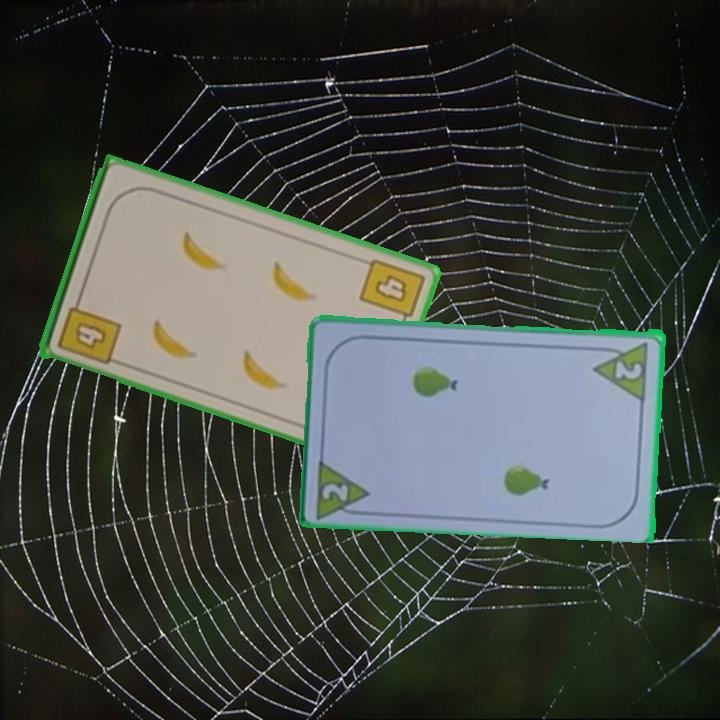2p: (312, 454, 374, 519), (591, 338, 651, 402)
4b: (356, 254, 428, 331), (54, 292, 124, 368)
